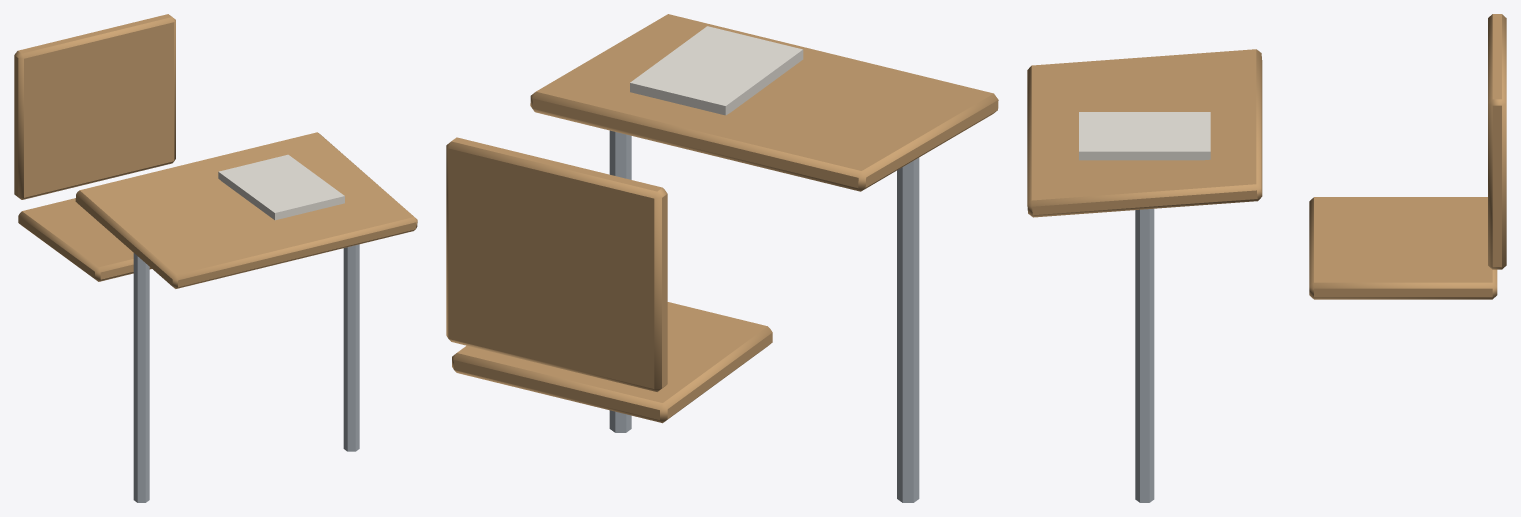
Rendered from school_desk.glb.
3 renders of one model, left to right at view 1: azimuth 30°, elevation 25°; view 2: azimuth 150°, elevation 25°; view 3: azimuth 270°, elevation 25°, orthographic. The views are drawn at different scales.
Parts seen in each view (by area): view 1: school_desk; view 2: school_desk; view 3: school_desk.
Part boxes in pixels (x1,y1,x2,y2): school_desk: [14, 14, 417, 502]; school_desk: [446, 14, 998, 502]; school_desk: [1027, 14, 1506, 502].
Bounding box in the file's own units: 0.7 × 0.9 × 1.02.
